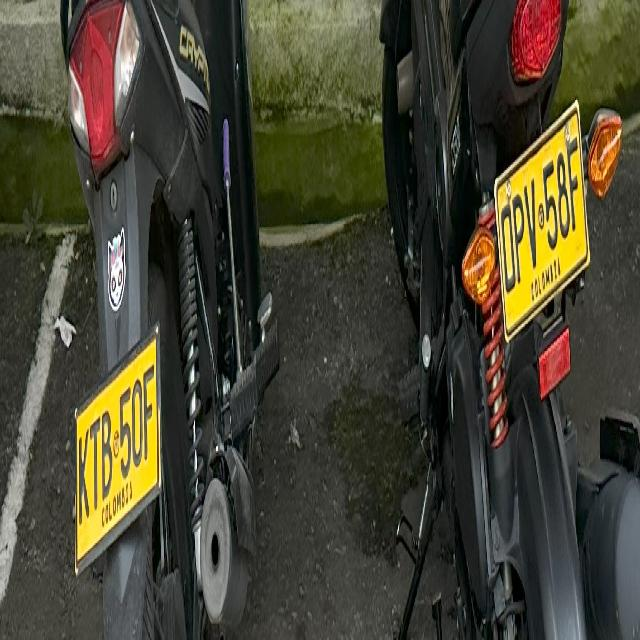number plate: (494, 100, 589, 337), (75, 324, 160, 570)
